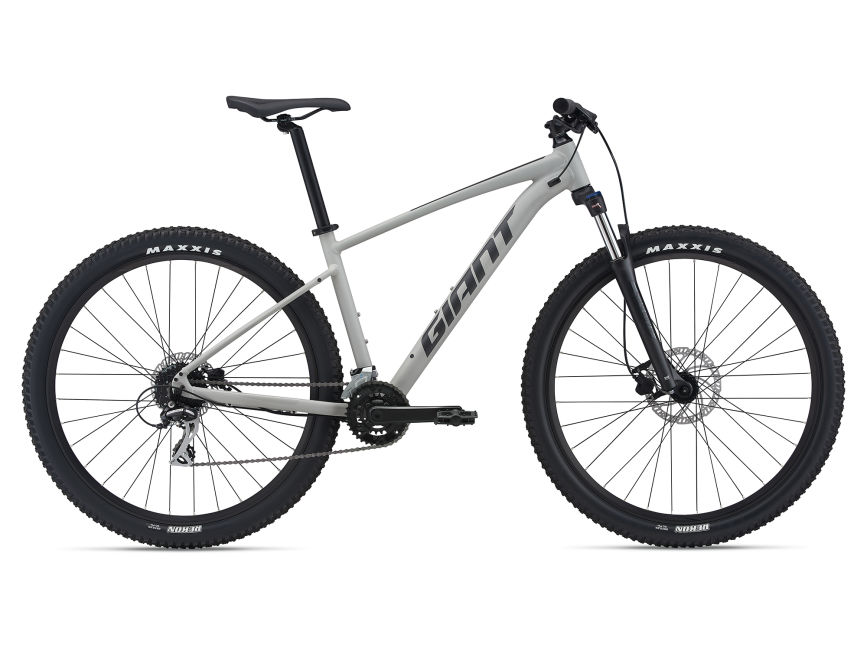bicycle: (26, 90, 850, 556)
